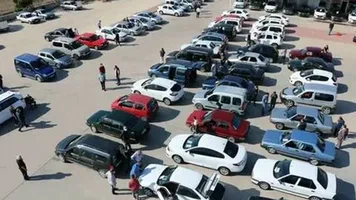Car: (251, 158, 337, 200), (165, 134, 247, 176), (54, 133, 128, 178), (139, 163, 225, 200), (261, 129, 336, 165), (185, 109, 250, 142), (84, 110, 149, 142), (279, 83, 337, 114), (192, 85, 249, 116), (147, 60, 207, 86), (131, 78, 184, 105), (111, 93, 159, 121), (202, 75, 255, 99), (14, 53, 56, 82), (216, 63, 264, 83), (165, 46, 213, 66), (0, 90, 27, 125), (50, 37, 91, 59), (288, 68, 337, 86), (237, 42, 279, 62), (227, 51, 271, 69), (289, 45, 332, 62), (38, 48, 74, 68), (287, 57, 334, 72), (201, 23, 236, 41), (74, 32, 109, 49), (180, 40, 219, 55), (251, 22, 285, 39), (251, 31, 284, 48), (207, 17, 242, 33), (191, 32, 228, 47), (95, 25, 127, 42), (113, 21, 142, 35), (258, 13, 289, 26), (44, 28, 72, 42), (133, 11, 163, 24), (128, 16, 154, 30), (220, 8, 250, 20), (156, 4, 184, 16), (252, 18, 282, 29), (164, 0, 190, 12), (15, 12, 42, 23), (32, 9, 55, 20), (60, 0, 82, 11), (329, 5, 343, 21), (264, 0, 279, 13), (314, 5, 327, 19), (282, 2, 296, 15), (216, 14, 241, 21), (297, 4, 310, 17), (248, 0, 264, 10), (248, 196, 285, 200), (348, 8, 356, 24), (178, 0, 193, 8), (233, 0, 248, 8), (353, 31, 356, 43), (0, 87, 4, 94)
